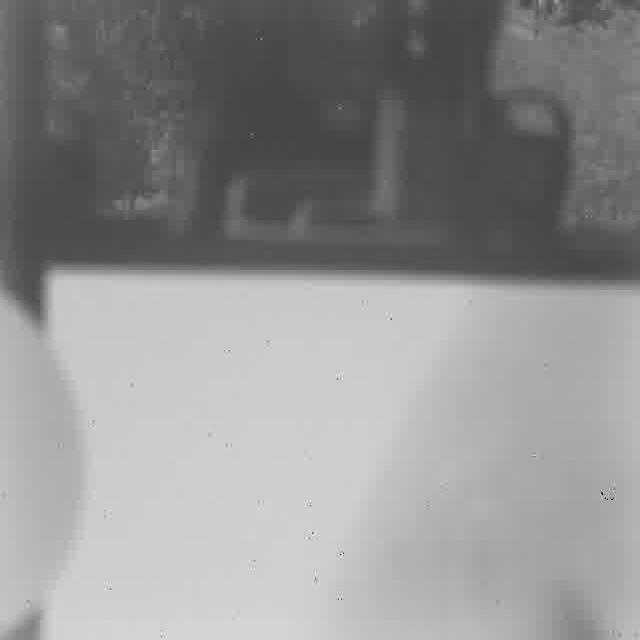Bus: (29, 1, 638, 640)
